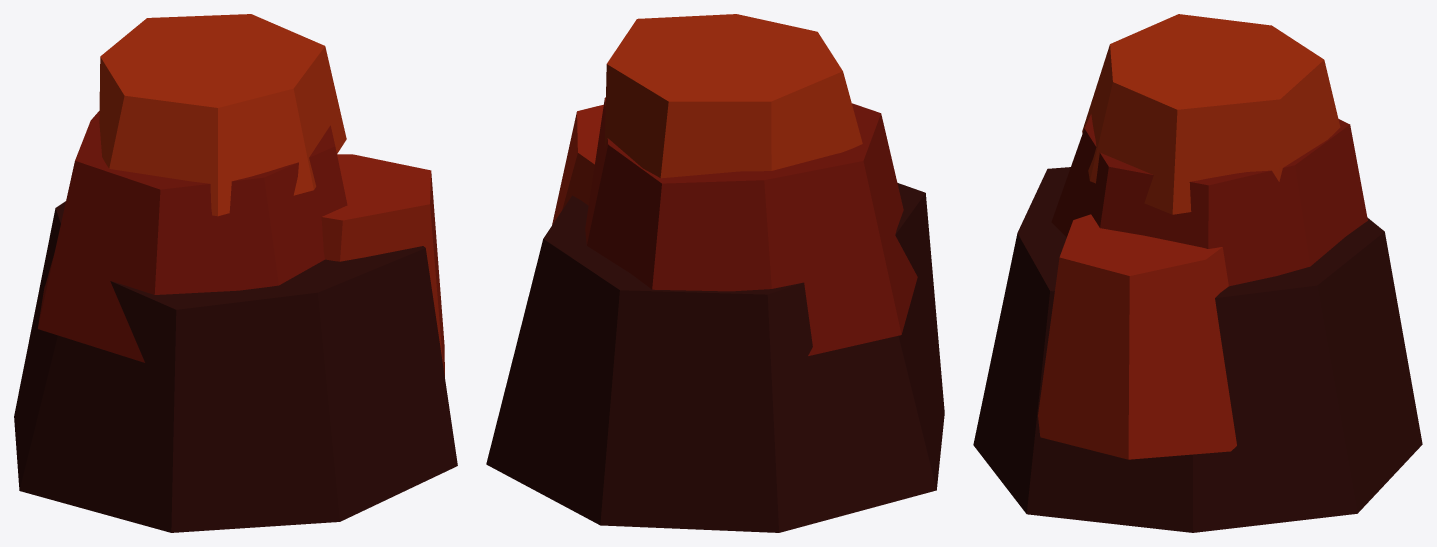
The model's file is mars_canyon_cliffs.glb.
3 renders of one model, left to right at view 1: azimuth 30°, elevation 25°; view 2: azimuth 150°, elevation 25°; view 3: azimuth 270°, elevation 25°, orthographic. The views are drawn at different scales.
Parts seen in each view (by area): view 1: MarsCliff; view 2: MarsCliff; view 3: MarsCliff.
Boxes of the visible parts, bbox=[...] form: MarsCliff: bbox=[14, 14, 457, 532]; MarsCliff: bbox=[486, 14, 944, 532]; MarsCliff: bbox=[973, 14, 1422, 532].
Bounding box in the file's own units: 6.18 × 5.72 × 6.15.
